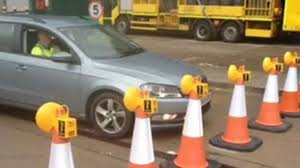car: (1, 17, 212, 136)
cone: (174, 86, 212, 168), (224, 65, 253, 146), (39, 114, 80, 168), (126, 101, 159, 168), (259, 58, 281, 125), (282, 53, 300, 111)
